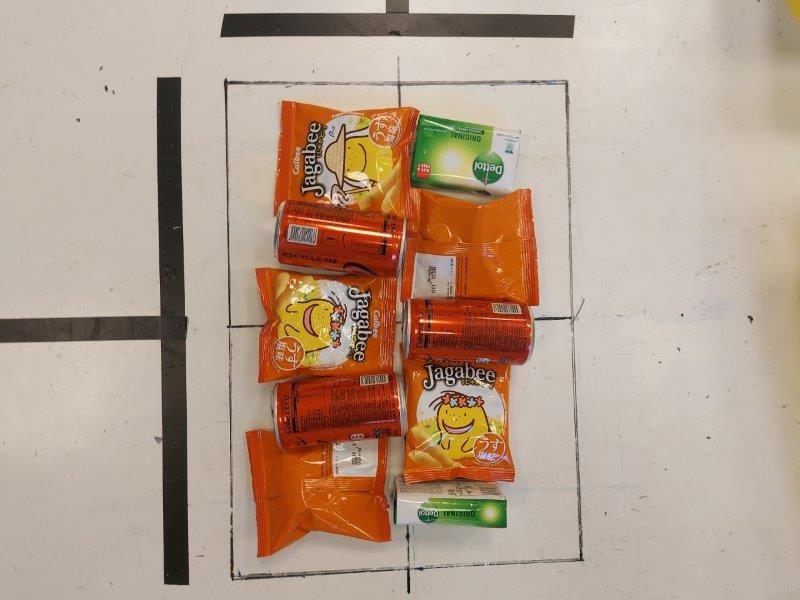Coke: (273, 373, 408, 450), (276, 200, 406, 276), (403, 297, 535, 363)
Dettol: (411, 115, 522, 196), (394, 477, 508, 529)
Jagabee: (245, 430, 393, 556), (273, 100, 419, 224), (401, 189, 541, 304), (257, 266, 394, 382), (403, 363, 515, 482)
